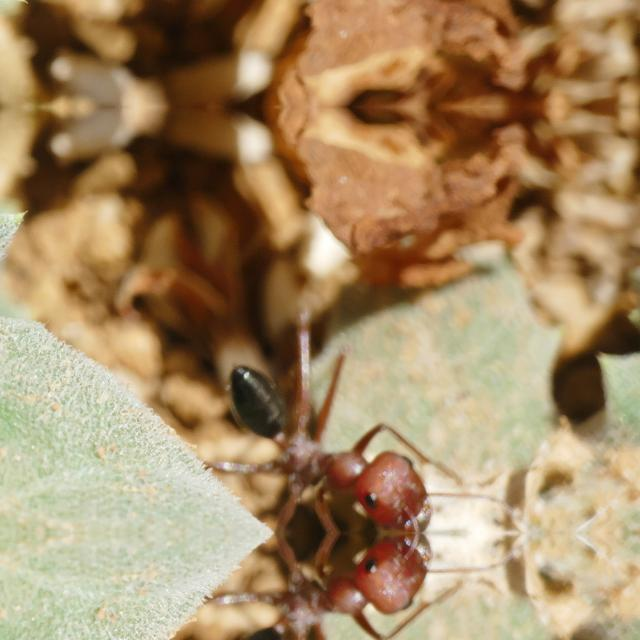Cataglyphis: (167, 350, 479, 532), (167, 532, 479, 640)
